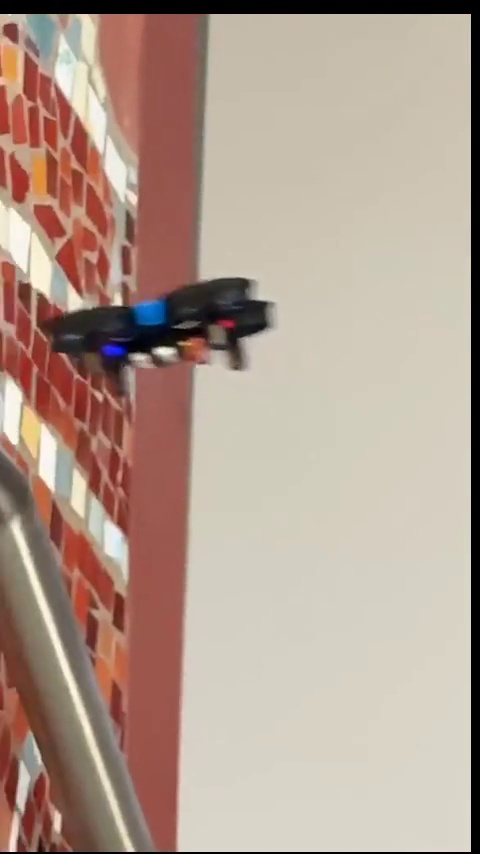drone: (43, 277, 272, 378)
